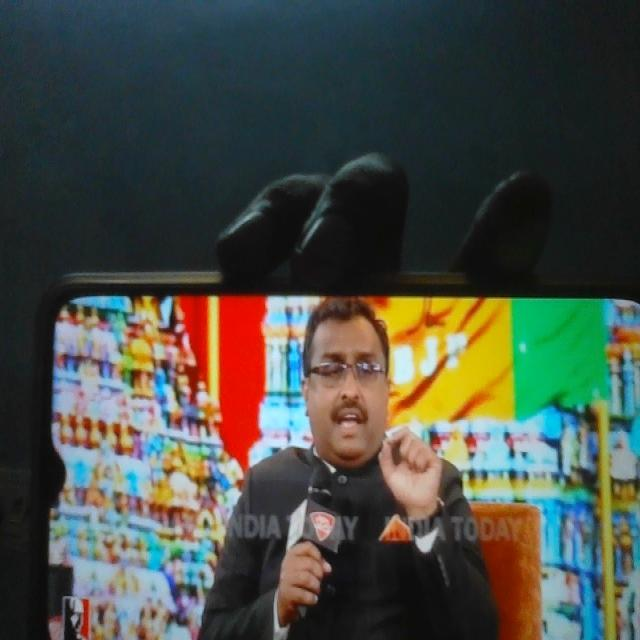fake: (295, 268, 403, 472)
